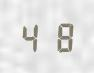eight: (47, 19, 74, 52)
four: (19, 20, 46, 53)
